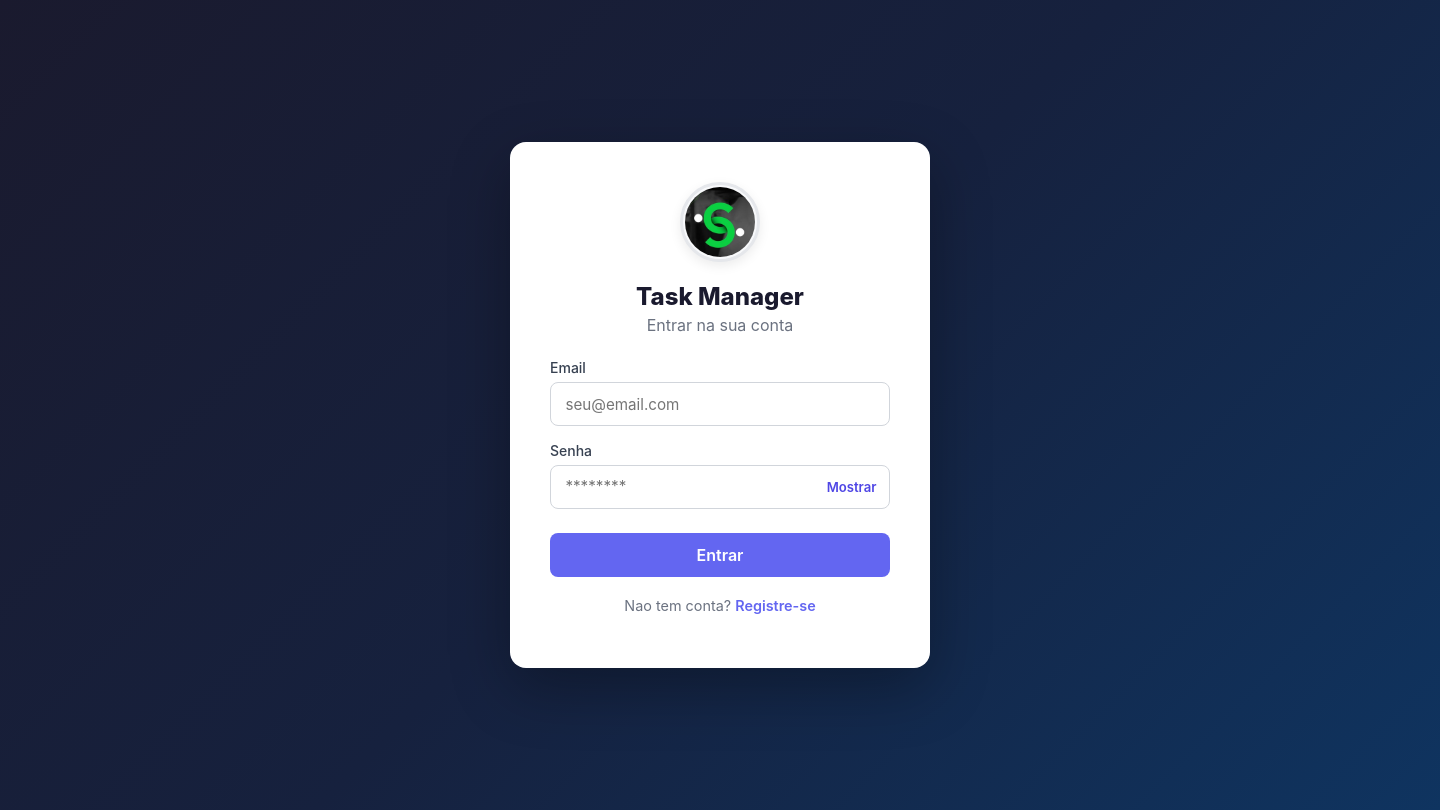
Test case: Fluxo de Autenticação (integração) › Página de Login › exibe a mensagem de erro retornada pela API em falha de login
The width and height of the screenshot is (1440, 810).
Type "errado@email.com" into the field with placeholder "seu@email.com" at {"x": 720, "y": 404}, box x1=550 y1=382 x2=890 y2=426
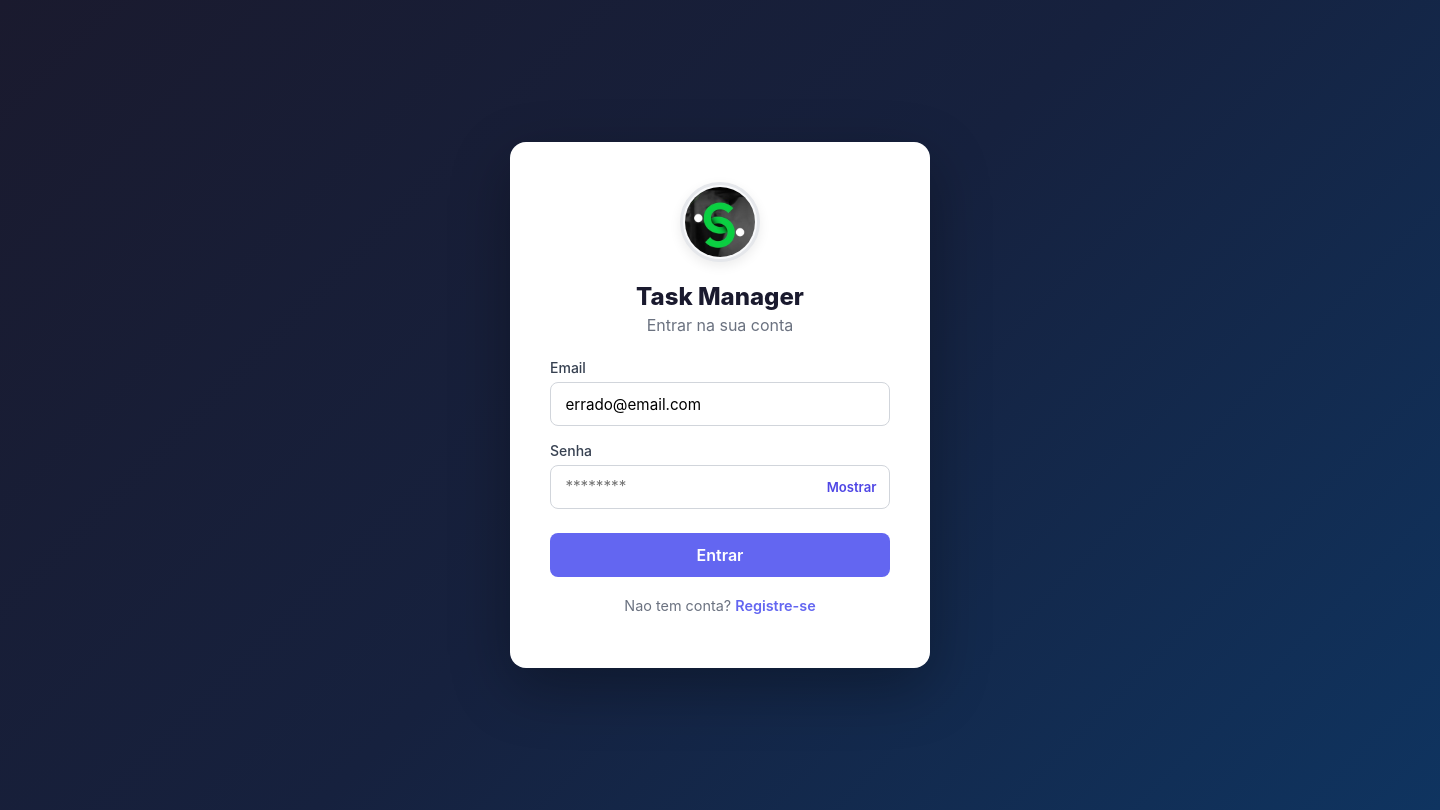
Type "senhaerrada" into the password field with placeholder "********" at {"x": 720, "y": 487}, box x1=550 y1=465 x2=890 y2=509
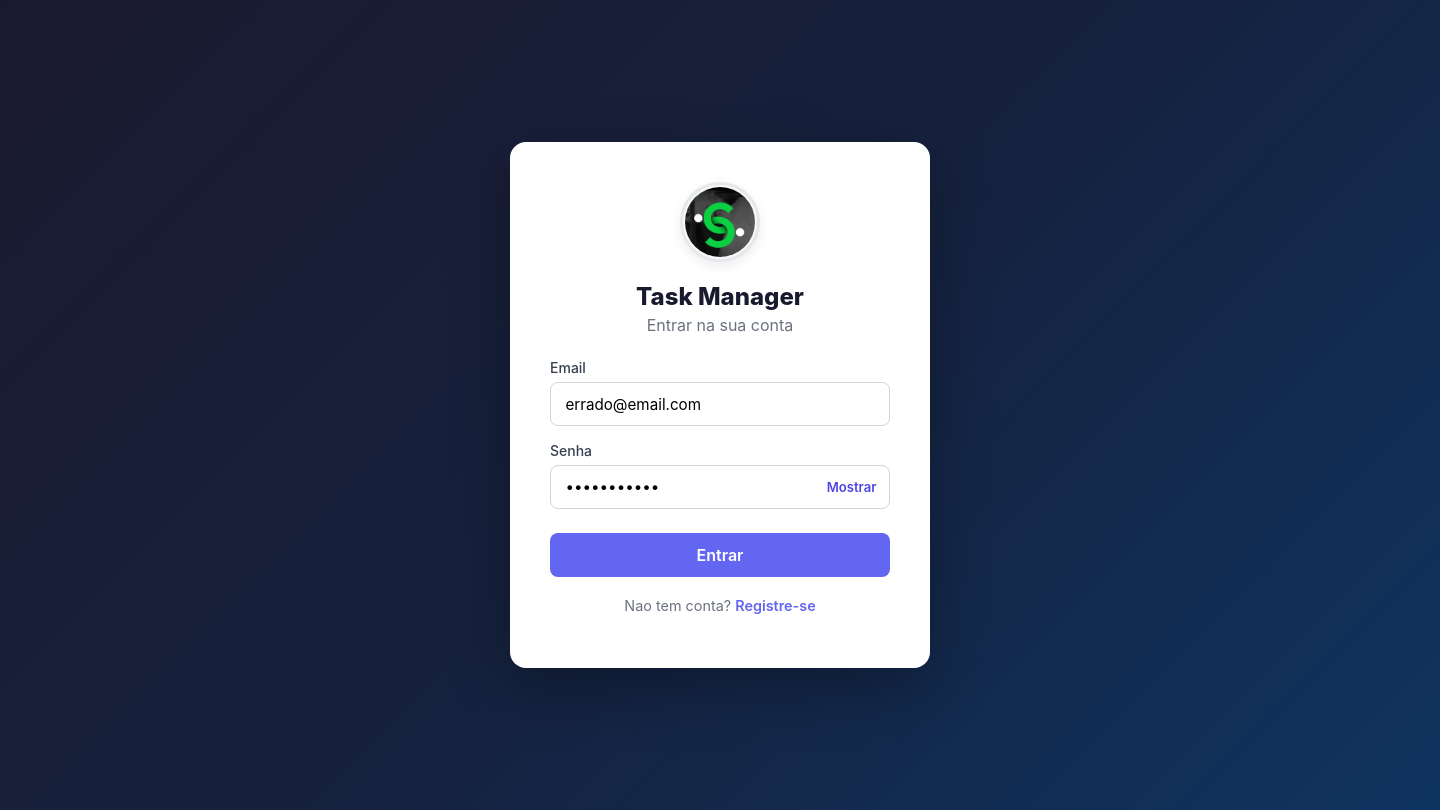
Click the button "Entrar" at {"x": 720, "y": 555}, box x1=550 y1=533 x2=890 y2=577
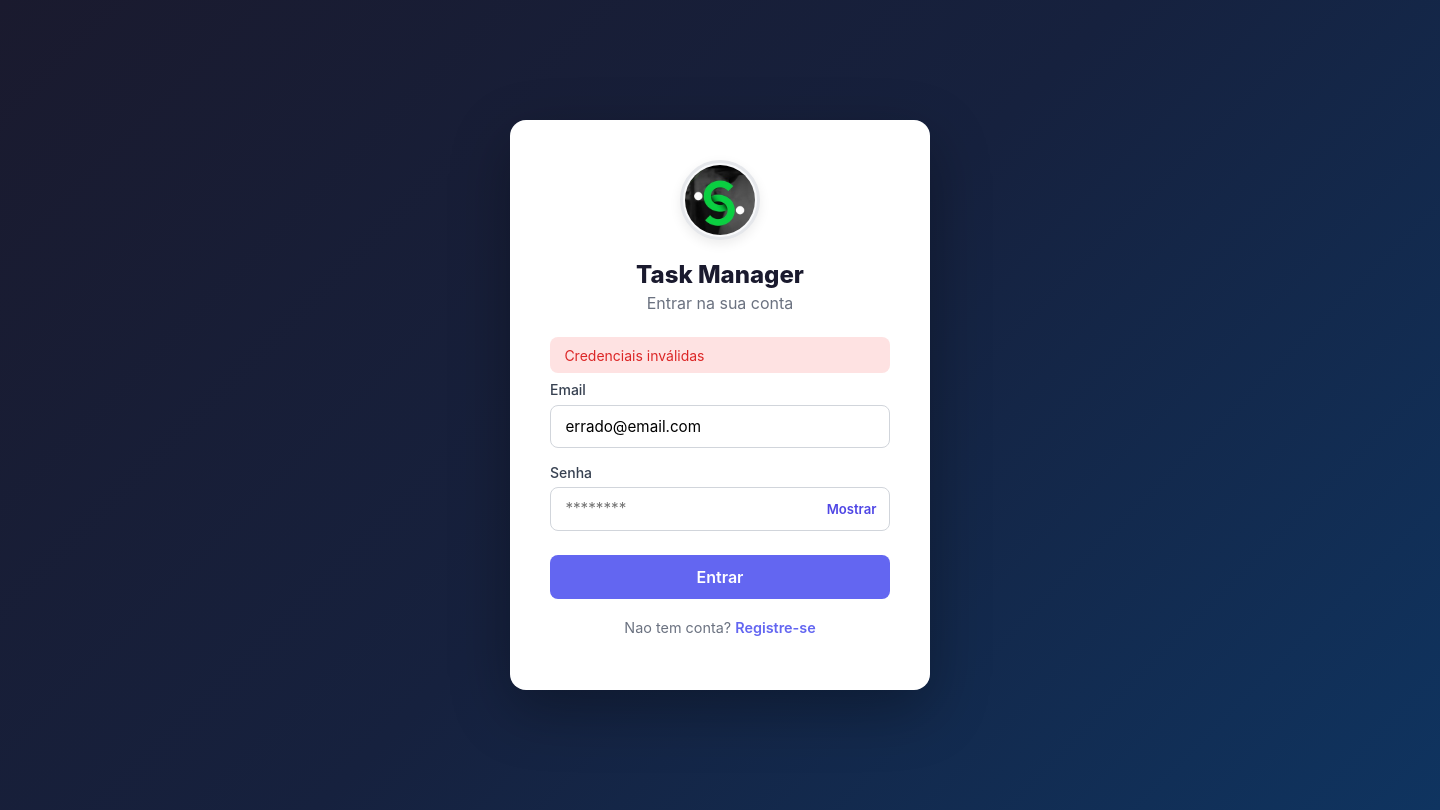
expect the text "Credenciais inválidas" is shown: met, box x1=550 y1=337 x2=890 y2=373
